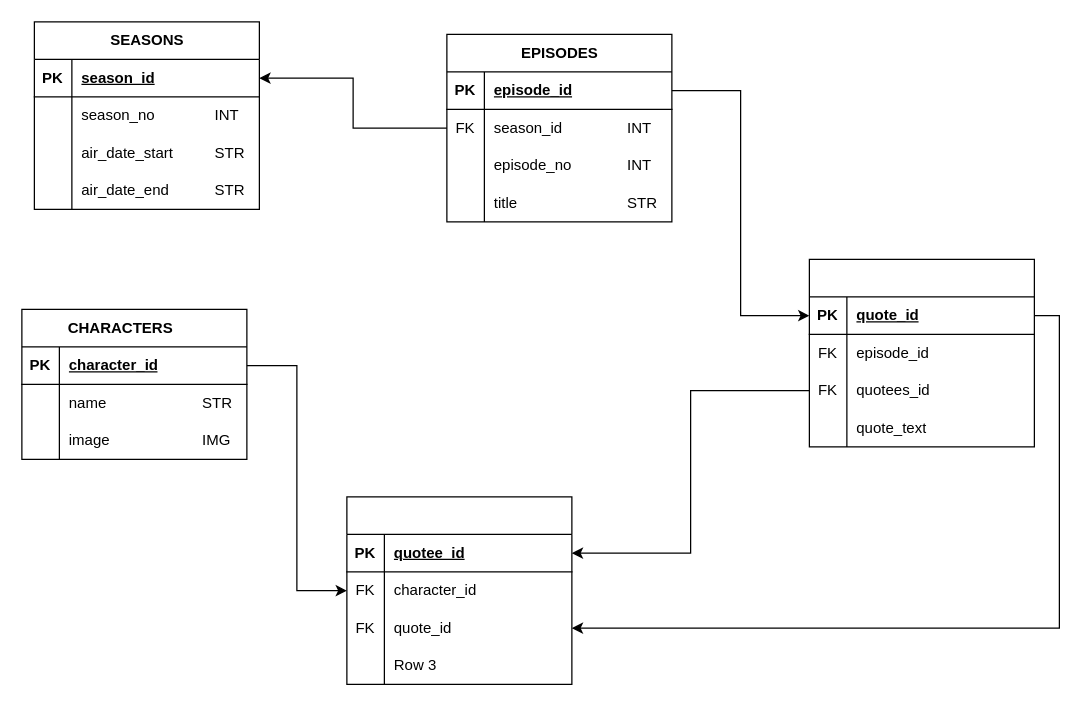
The diagram is 1091 pixels wide and 706 high, and some of its shapes have lost their labels. Here are the shapes that lost their labels. From the top down, the box of each, then its label:
(808, 258, 1034, 447): QUOTES
(346, 496, 572, 684): QUOTEES
